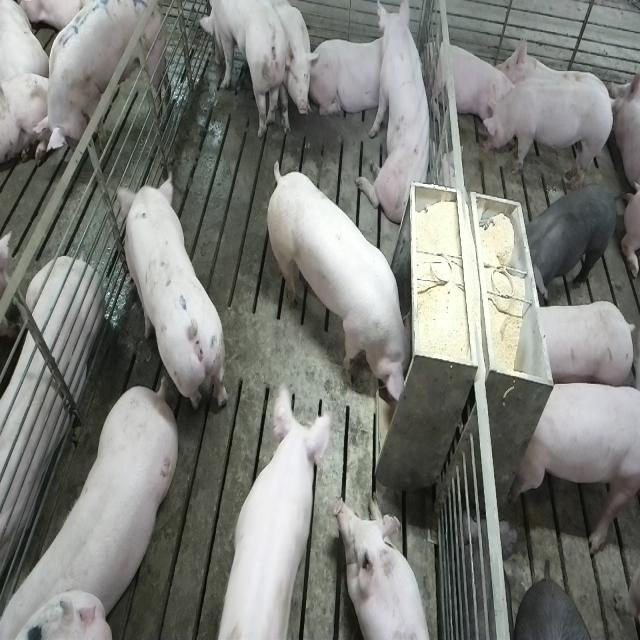Feeding: (271, 161, 421, 410), (209, 387, 331, 640)
Sitting: (361, 4, 436, 231)
Standing: (6, 375, 182, 635), (117, 169, 224, 413), (30, 0, 174, 156), (511, 381, 639, 548), (196, 1, 312, 143), (482, 80, 619, 187), (522, 180, 620, 298), (527, 300, 633, 390)
Sternal_lying: (0, 254, 101, 580), (337, 495, 437, 640), (430, 36, 512, 132), (312, 32, 387, 122)
